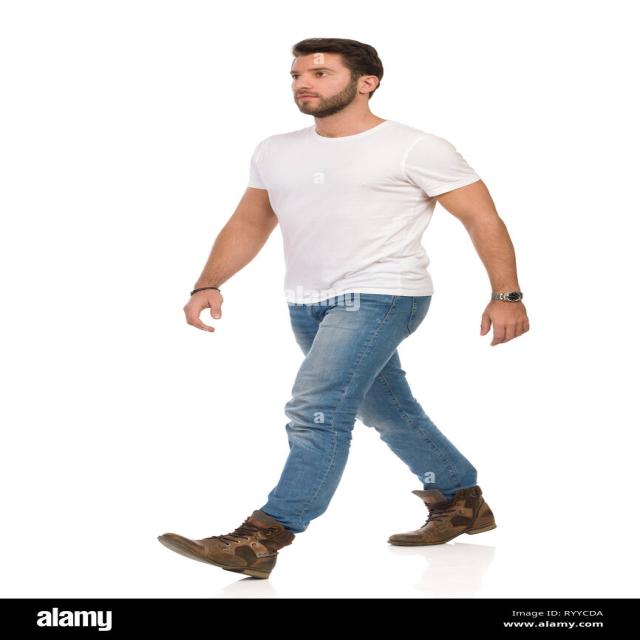Person: (158, 37, 529, 579)
